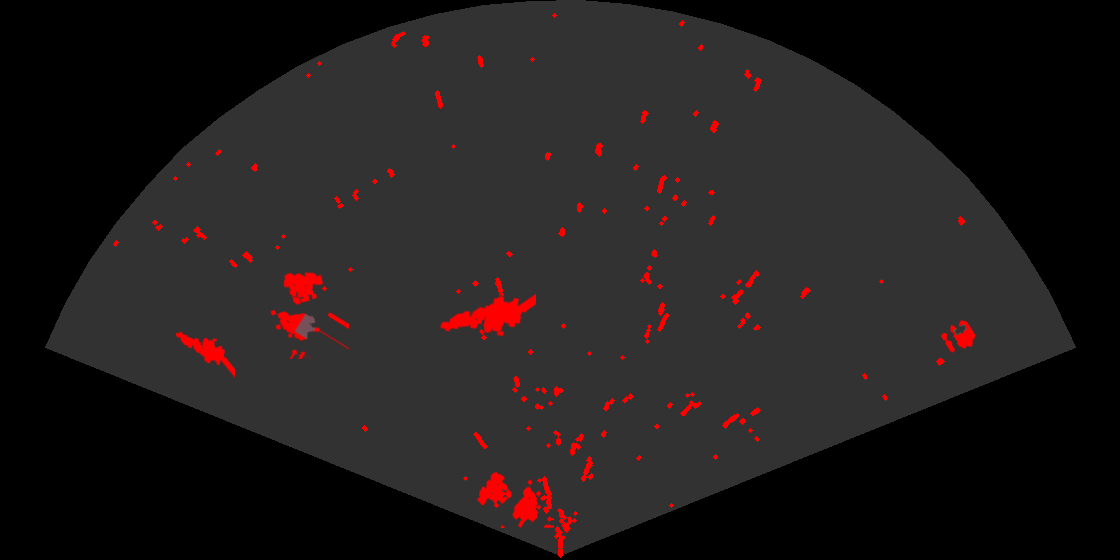ball: (939, 319, 977, 354)
cage: (269, 270, 349, 359), (475, 470, 554, 528)
frogman: (438, 292, 536, 338), (174, 330, 235, 378)
